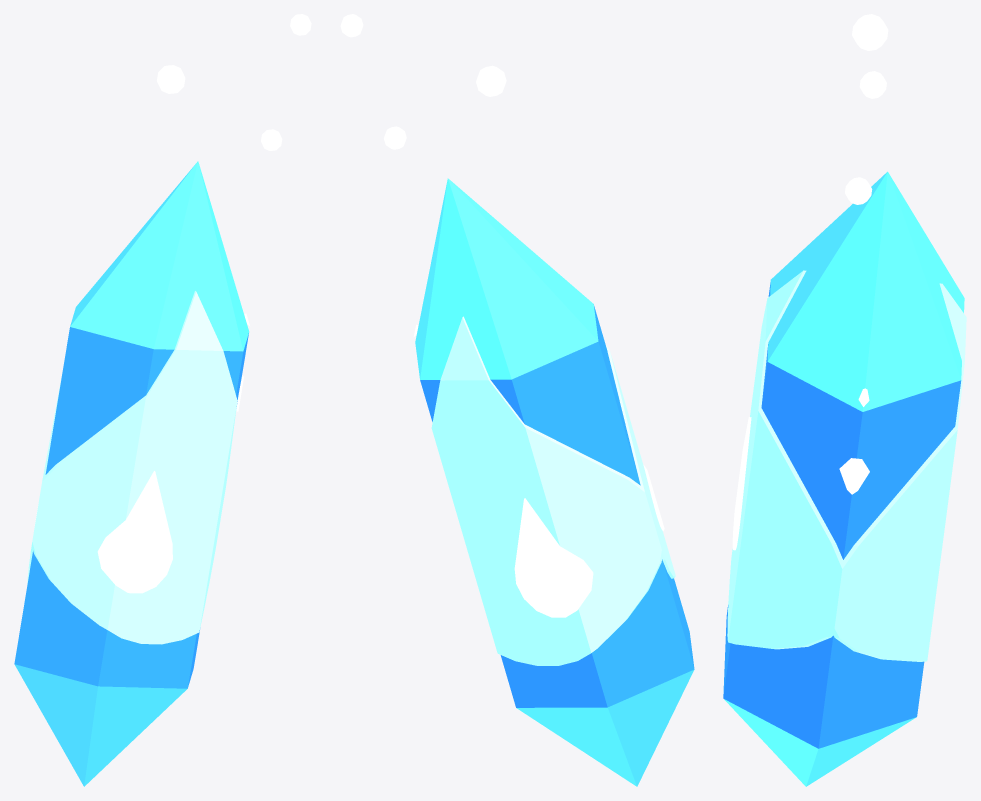
Rendered from aqua_shard.glb.
3 renders of one model, left to right at view 1: azimuth 30°, elevation 25°; view 2: azimuth 150°, elevation 25°; view 3: azimuth 270°, elevation 25°, orthographic. The views are drawn at different scales.
Visible parts, largest first — view 1: aqua_shard; view 2: aqua_shard; view 3: aqua_shard.
Part boxes in pixels (left/top/right/bottom): aqua_shard: left=14, top=14, right=311, bottom=786; aqua_shard: left=340, top=14, right=694, bottom=786; aqua_shard: left=723, top=14, right=966, bottom=786.
Bounding box in the file's own units: 0.1144 × 0.24 × 0.0614.
